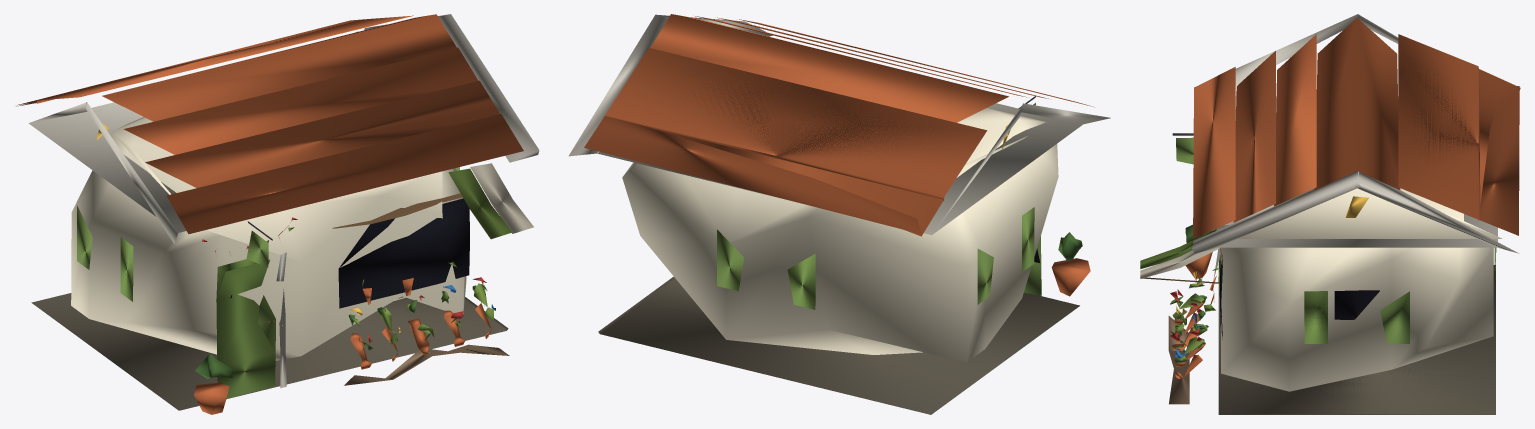
File: biz_flower-shop_t1.glb
3 renders of one model, left to right at view 1: azimuth 30°, elevation 25°; view 2: azimuth 150°, elevation 25°; view 3: azimuth 270°, elevation 25°, orthographic. The views are drawn at different scales.
Parts seen in each view (by area): view 1: cream, terracotta0, terracotta2, stone_dark, terracotta1, marble, olive_wood, dark, terracotta, cloth_olive, cloth_cream, wood (+3 smaller); view 2: cream, terracotta2, stone_dark, terracotta0, terracotta1, marble, olive_wood, terracotta; view 3: cream, terracotta0, terracotta2, stone_dark, terracotta1, marble, olive_wood, dark, terracotta, wood, leaf.001, cloth_cream (+2 smaller).
Boxes of the visible parts, x1,y1,x2,y2 form: cream: (71,31,466,360); terracotta0: (16,14,523,234); terracotta2: (36,15,478,154); stone_dark: (31,293,508,410); terracotta1: (17,19,499,187); marble: (28,14,539,388); olive_wood: (77,167,459,398); dark: (230,198,469,308); terracotta: (194,278,495,414); cloth_olive: (448,168,512,239); cloth_cream: (470,163,533,233); wood: (344,344,509,385); cream: (622,108,1058,362); terracotta2: (605,16,1026,200); stone_dark: (598,276,1079,414); terracotta0: (641,14,1094,236); terracotta1: (584,17,1048,234); marble: (568,14,1110,235); olive_wood: (717,103,1041,309); terracotta: (1051,258,1090,296); cream: (1216,108,1502,391); terracotta0: (1193,18,1520,238); terracotta2: (1274,34,1480,220); stone_dark: (1218,265,1495,414); terracotta1: (1233,51,1519,235); marble: (1192,14,1519,302); olive_wood: (1176,137,1496,343); dark: (1219,255,1379,339); terracotta: (1172,252,1216,379); wood: (1168,316,1189,404); leaf.001: (1172,267,1219,364); cloth_cream: (1140,247,1219,278).
Size of the model in its own units: 6.08 by 4.19 by 5.87.
